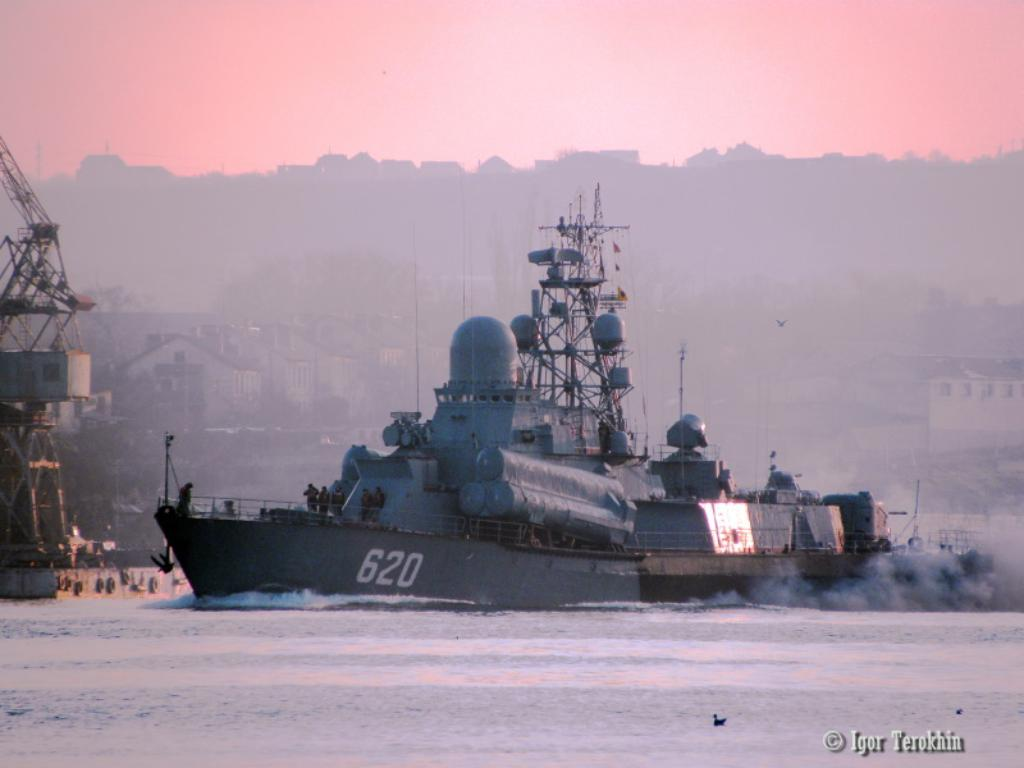Warship: (149, 178, 989, 608)
